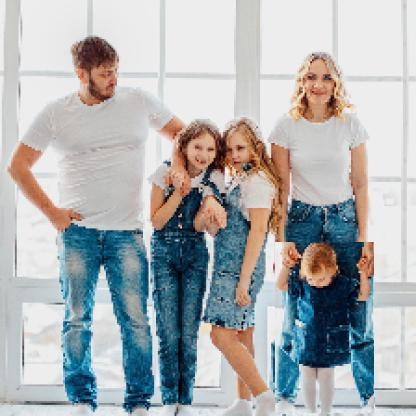child: (276, 243, 376, 415)
